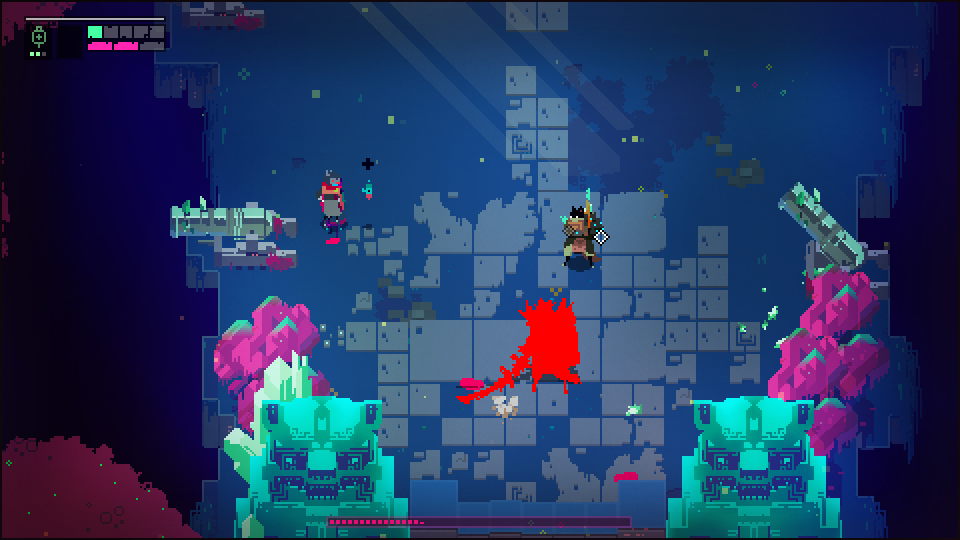hanged_man: (491, 289, 592, 400)
player: (316, 169, 350, 234)
